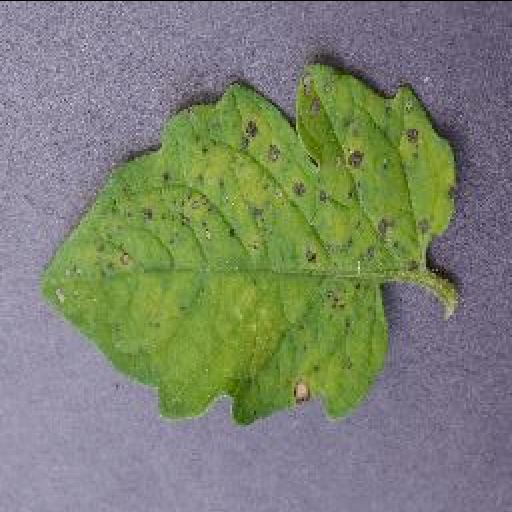disease_tomato: (31, 58, 457, 420)
